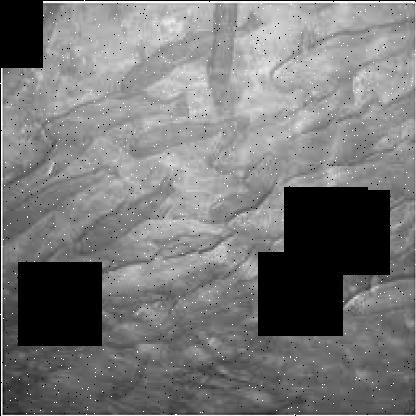fish: (122, 10, 268, 94), (273, 12, 415, 97), (80, 234, 240, 302), (259, 150, 399, 223), (230, 200, 406, 245), (41, 90, 190, 142), (74, 187, 171, 254), (128, 117, 238, 163), (207, 4, 240, 111), (127, 219, 230, 243)
